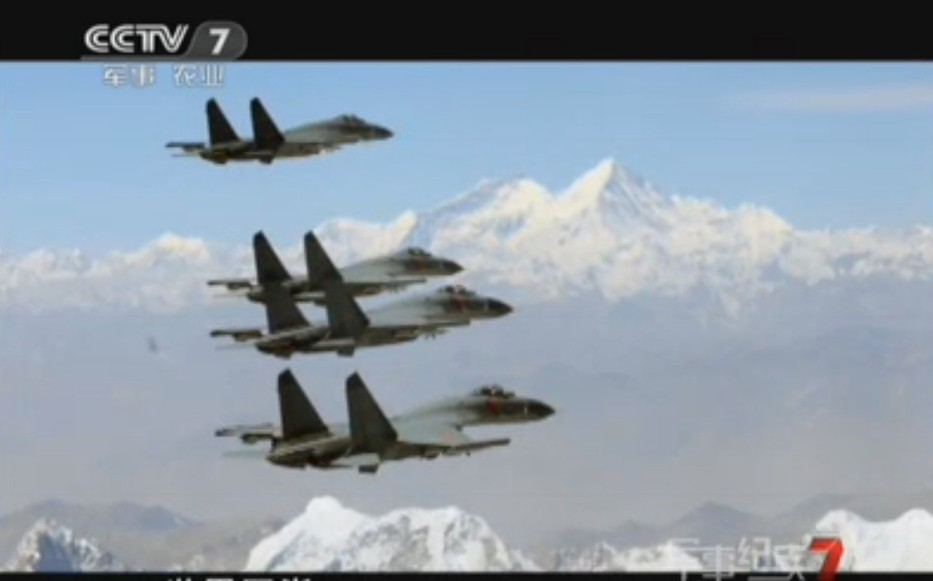airplane: (212, 370, 560, 482), (212, 245, 517, 362), (213, 225, 470, 314), (158, 98, 398, 167)
